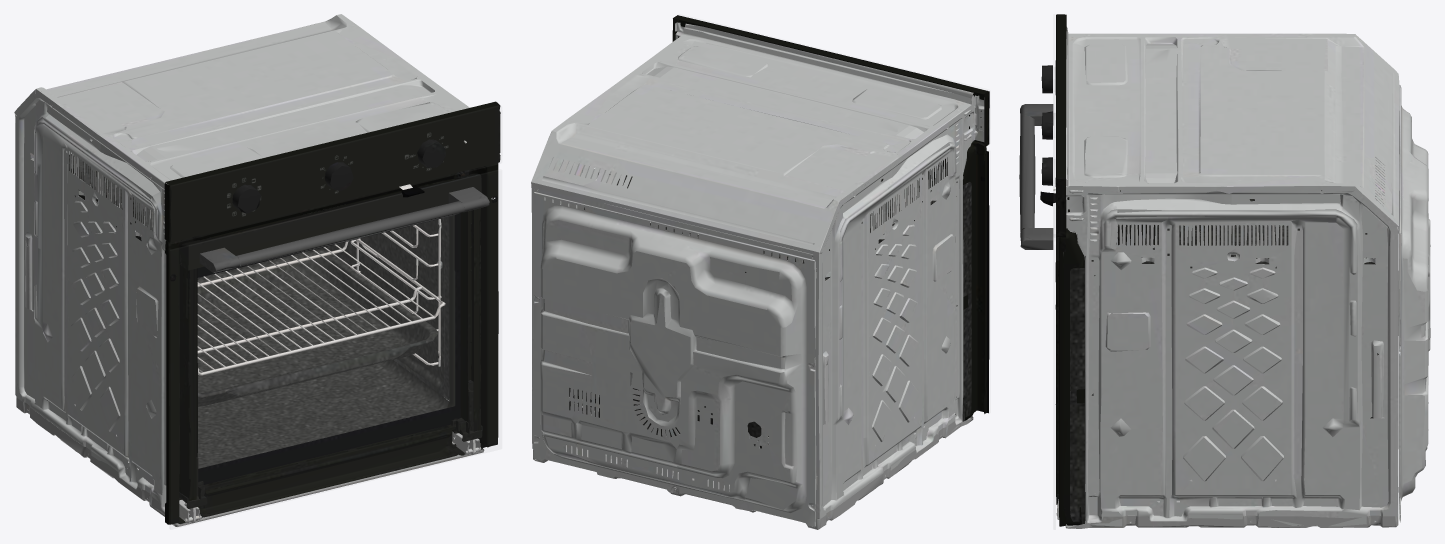
The model's file is spjutbo_piekarnik_z_funkcja_konwekcji_50600250.glb.
3 views of the same model, side by side, from view 1: azimuth 30°, elevation 25°; view 2: azimuth 150°, elevation 25°; view 3: azimuth 270°, elevation 25° (orthographic). The views are drawn at different scales.
Parts seen in each view (by area): view 1: spjutbo_piekarnik_z_funkcja_konwekcji_50600250; view 2: spjutbo_piekarnik_z_funkcja_konwekcji_50600250; view 3: spjutbo_piekarnik_z_funkcja_konwekcji_50600250.
Part boxes in pixels (<box>): spjutbo_piekarnik_z_funkcja_konwekcji_50600250: <box>14,14,500,527</box>; spjutbo_piekarnik_z_funkcja_konwekcji_50600250: <box>531,15,989,529</box>; spjutbo_piekarnik_z_funkcja_konwekcji_50600250: <box>1019,14,1430,528</box>.
Size of the model in its own units: 0.5939 by 0.5951 by 0.6221.
Materials: 2 (2 with a texture image).
